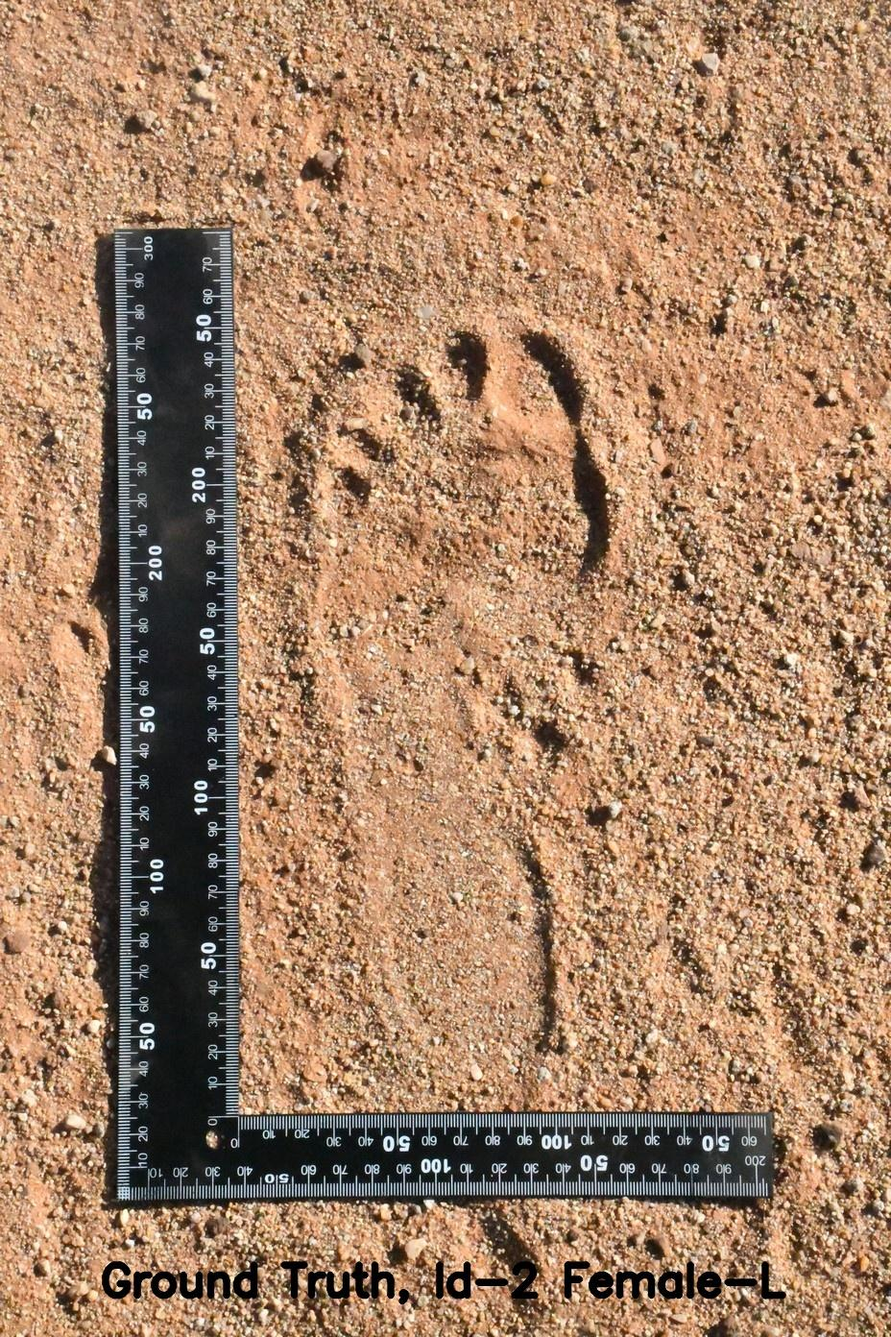human_foot_print: (253, 267, 686, 1111)
